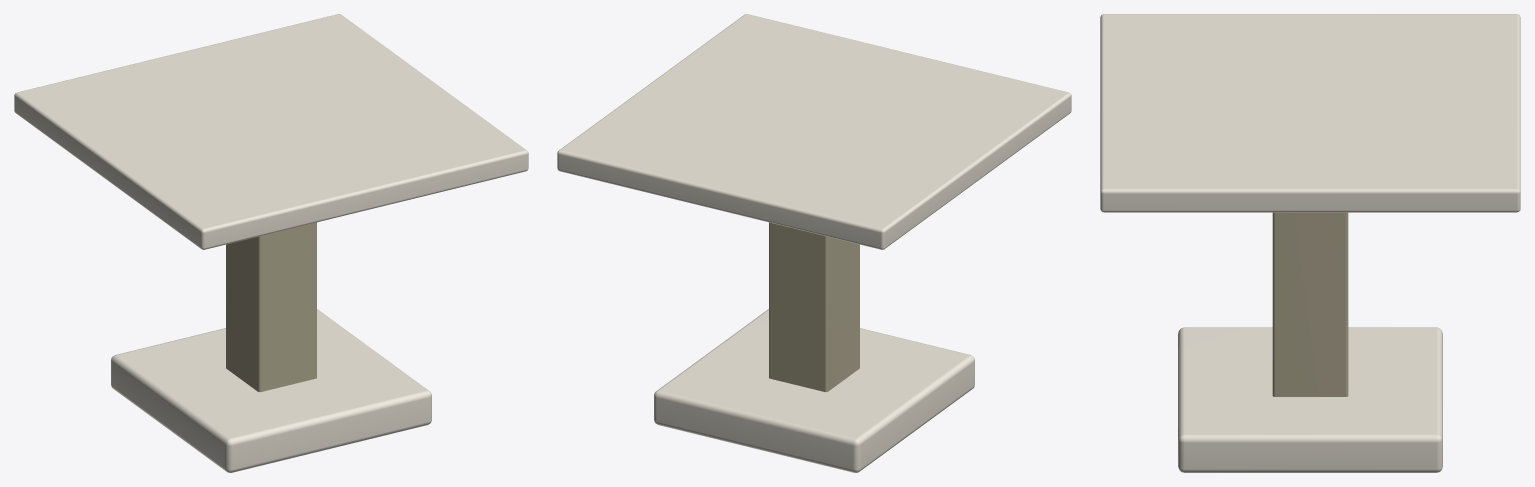
Rendered from prod-1548-fwstbl.glb.
The picture shows the model from 3 angles, left to right: view 1: azimuth 30°, elevation 25°; view 2: azimuth 150°, elevation 25°; view 3: azimuth 270°, elevation 25°; orthographic projection. The views are drawn at different scales.
Visible parts, largest first — view 1: Table top.005, Square pedestal column.001; view 2: Table top.005, Square pedestal column.001; view 3: Table top.005, Square pedestal column.001.
Part boxes in pixels (x1,y1,x2,y2): Table top.005: [14, 14, 528, 472]; Square pedestal column.001: [226, 222, 316, 391]; Table top.005: [557, 14, 1071, 472]; Square pedestal column.001: [769, 222, 859, 391]; Table top.005: [1100, 14, 1520, 472]; Square pedestal column.001: [1272, 212, 1348, 396].
Bounding box in the file's own units: 0.9 × 0.75 × 0.9.
